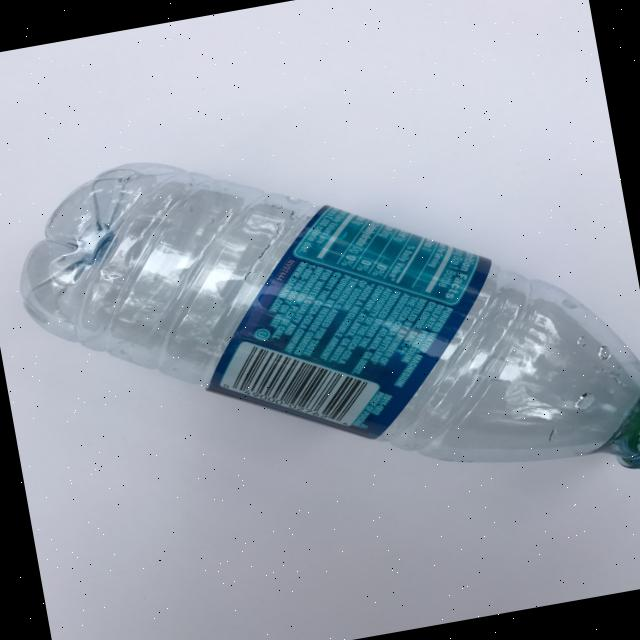plastic: (0, 77, 640, 584)
